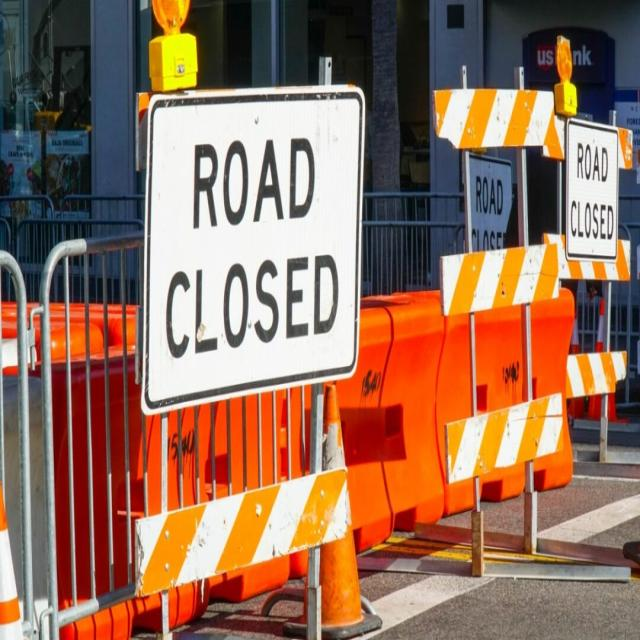cone: (1, 224, 629, 636)
